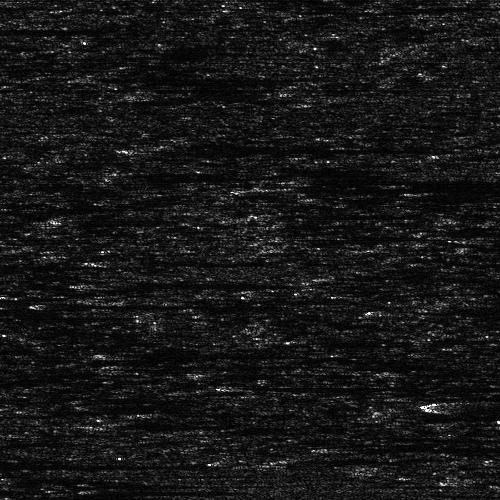object: (358, 305, 473, 314), (102, 140, 175, 153), (406, 397, 489, 408), (92, 256, 185, 265), (102, 410, 175, 417), (232, 210, 285, 217), (443, 235, 496, 242), (64, 73, 105, 82), (53, 281, 116, 286), (204, 385, 257, 390), (259, 178, 300, 183), (42, 299, 83, 304), (101, 363, 122, 370), (395, 189, 436, 192), (107, 352, 138, 355), (47, 216, 78, 219), (373, 371, 404, 374), (492, 419, 500, 428), (101, 422, 122, 425)
shadow: (138, 140, 421, 153), (0, 479, 160, 496), (85, 73, 292, 82), (63, 299, 342, 304), (139, 256, 281, 265), (280, 178, 500, 183), (259, 210, 404, 217), (416, 305, 500, 314), (231, 385, 378, 390), (0, 461, 144, 466), (84, 281, 225, 286), (447, 397, 500, 408), (0, 25, 83, 32), (138, 410, 210, 417), (112, 363, 183, 370), (122, 352, 266, 355), (112, 422, 254, 425), (389, 371, 500, 374), (416, 189, 500, 192), (269, 341, 343, 344), (470, 235, 500, 242), (63, 216, 132, 219)
